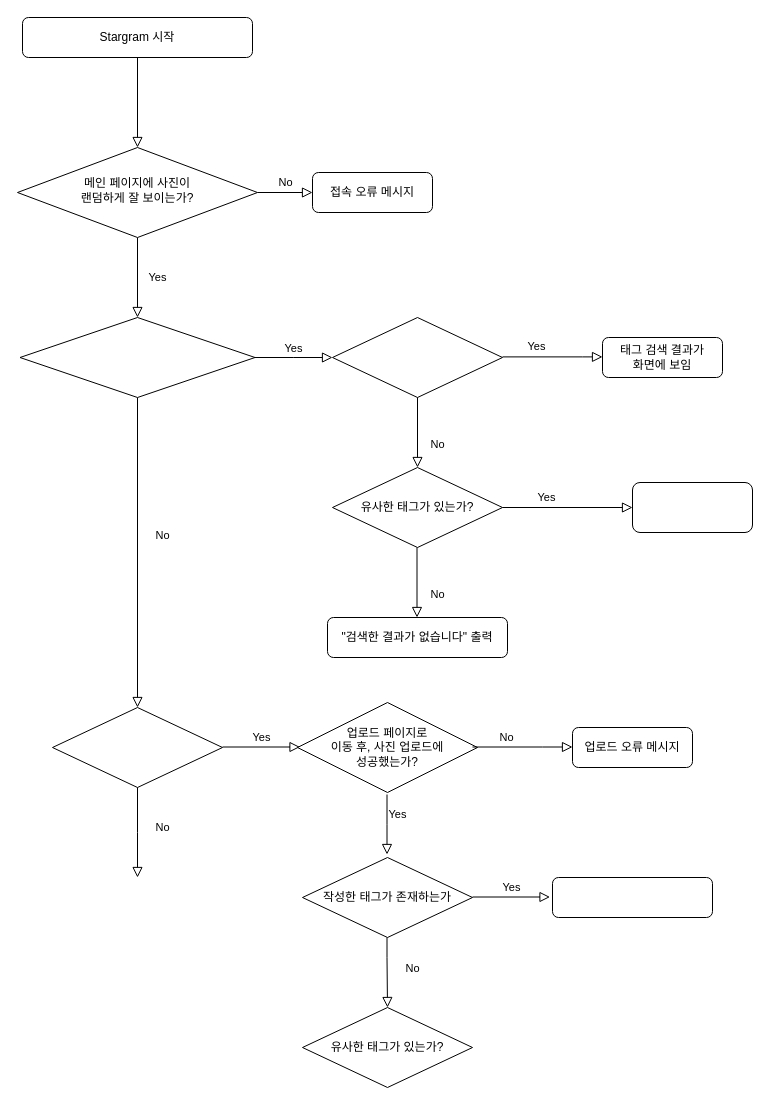
Image size: 770x1105. Some labels were removed from this diagram. The shapes that lost their labels are listed below. From the top down, each one's centre as x and y in pixels, then its label:
(137,357): 사진을 검색하고 싶은가?
(417,357): 검색한 태그가 있는가?
(692,507): 유사 태그 검색 결과가 화면에 보임
(137,747): 사진을 업로드하고 싶은가?
(632,897): 태그 및 사진 업로드 완료
